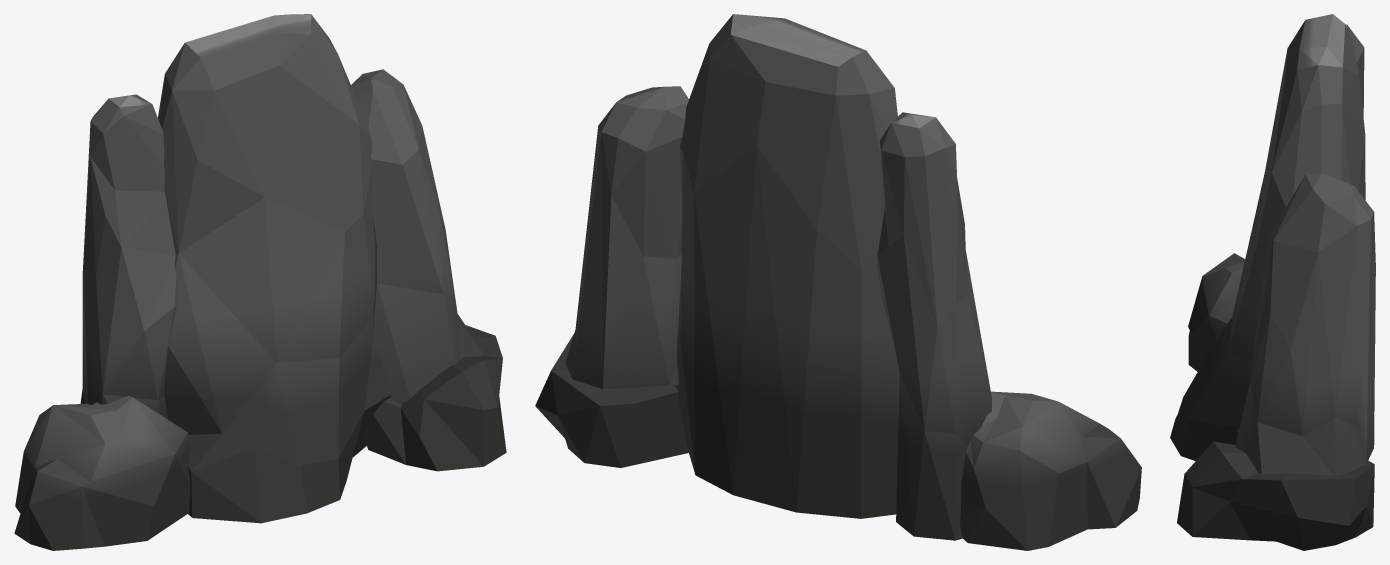
The model's file is rock3.fbx.
3 renders of one model, left to right at view 1: azimuth 30°, elevation 25°; view 2: azimuth 150°, elevation 25°; view 3: azimuth 270°, elevation 25°, orthographic. The views are drawn at different scales.
Visible parts, largest first — view 1: rock3_LOD0; view 2: rock3_LOD0; view 3: rock3_LOD0.
Part boxes in pixels (box(x1,y1,x2,y2)): rock3_LOD0: box(14, 14, 506, 550); rock3_LOD0: box(535, 14, 1141, 550); rock3_LOD0: box(1170, 14, 1375, 550).
Size of what is drawn, in the model's own units: 7 by 5.76 by 2.58.
